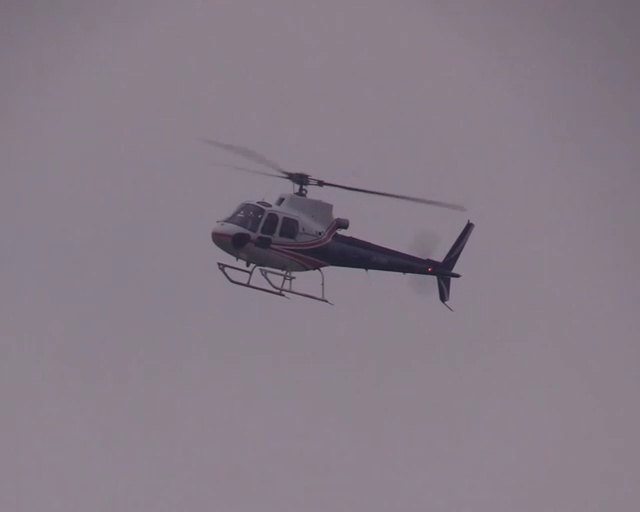HELICOPTER: (200, 135, 475, 308)
